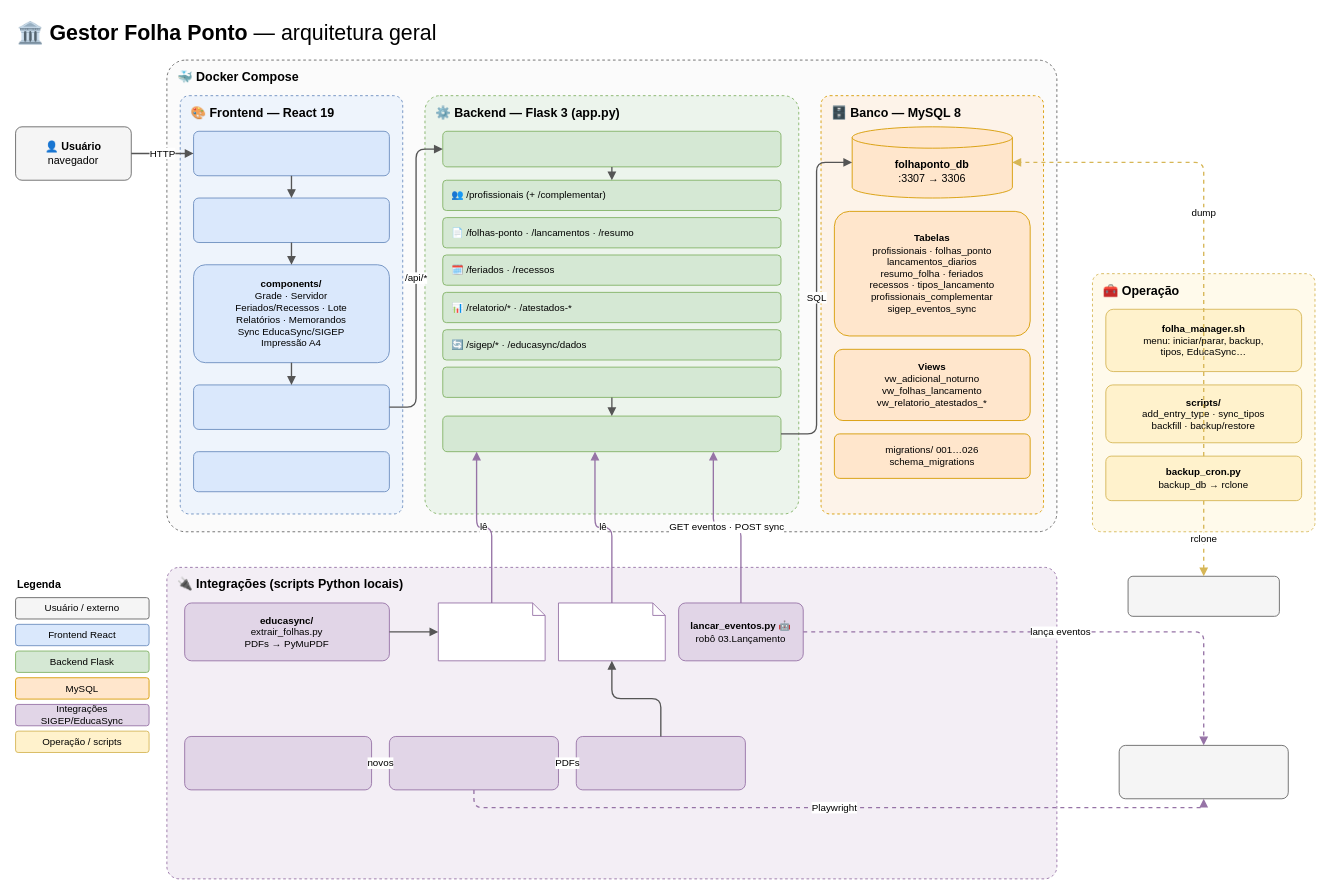
Some shapes in this 1331 by 894 pixel diagram are drawn without their labels. The centre of each missing label's shape, as x and y in pixels:
"App.tsx estado da folha + auto-save" goes at pixel 291 220.
"dados_folha_ ponto.json" goes at pixel 491 631.
"execute_query() · mysql-connector" goes at pixel 611 433.
"extrair_fichas.py pdftotext → JSON/XLSX" goes at pixel 660 763.
"ficha.cadastral .*.json" goes at pixel 611 631.
"Flask :5000 · gunicorn em produção" goes at pixel 611 148.
"nginx :3000 SPA + proxy /api" goes at pixel 291 153.
"raspar_fichas.py Playwright → PDFs" goes at pixel 473 763.
"services/api.ts apiService" goes at pixel 291 406.
"types.ts tipos de lançamento + códigos" goes at pixel 291 471.
"verificar_novos.py listagem → servidores.csv" goes at pixel 278 763.
"☁️ OneDrive" goes at pixel 1203 595.
"🌐 SIGEP sistema externo" goes at pixel 1203 771.
"🏷️ /tipos-lancamento · /health" goes at pixel 611 381.
